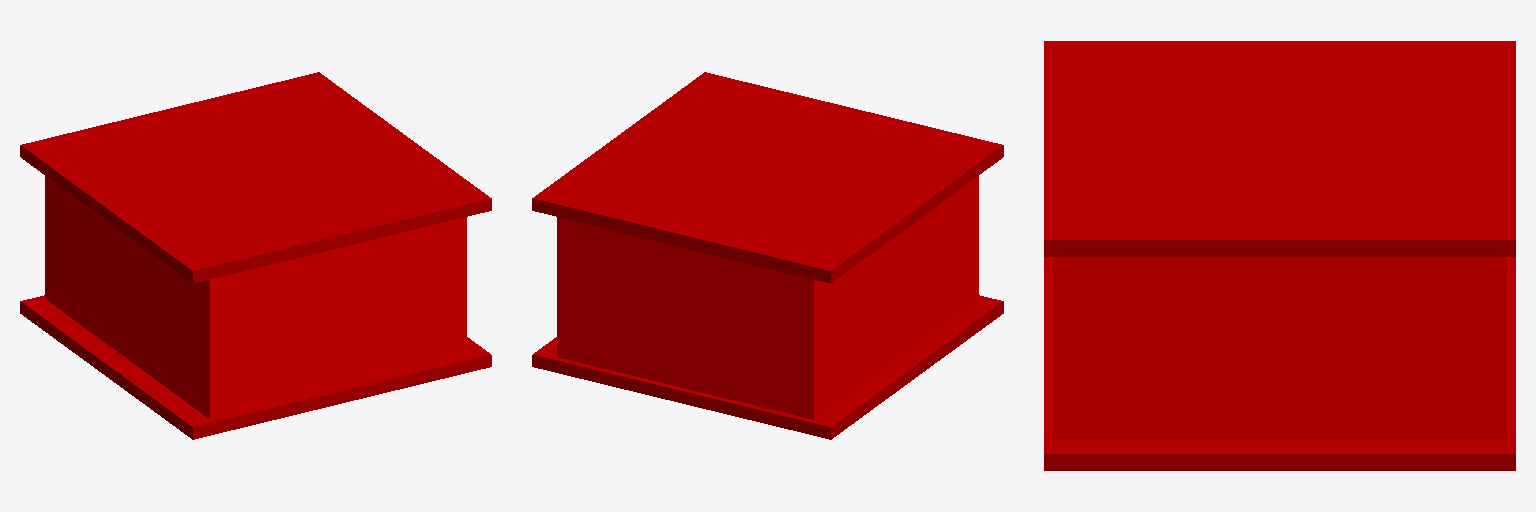
--- Facts derived from the render (not from the file) ---
The picture shows the robot from 3 angles, left to right: view 1: azimuth 30°, elevation 25°; view 2: azimuth 150°, elevation 25°; view 3: azimuth 270°, elevation 25°; orthographic projection.
Robot: m20id_35 — 22 links, 21 joints (12 revolute, 9 fixed); root link base_ground; default pose: every joint at zero.
Links seen in each view (by area): view 1: wall, ceil, floor; view 2: wall, ceil, floor; view 3: ceil, wall, floor.
Boxes of the visible links, bbox=[...] form: wall: bbox=[45, 176, 466, 419]; ceil: bbox=[20, 72, 491, 283]; floor: bbox=[20, 295, 491, 439]; wall: bbox=[557, 176, 978, 419]; ceil: bbox=[532, 72, 1003, 283]; floor: bbox=[532, 295, 1003, 439]; ceil: bbox=[1044, 41, 1515, 256]; wall: bbox=[1054, 257, 1505, 439]; floor: bbox=[1044, 257, 1515, 470].
Size in the robot's own frame: 5 by 5 by 2.7 metres.
Meshes: 13 distinct files referenced, 21 mesh visuals loaded (13 binary STL).

The robot description file, URDF, robot "m20id_35":
<?xml version="1.0" encoding="utf-8" ?>
<!-- This URDF was automatically created by SolidWorks to URDF Exporter! Originally created by Stephen Brawner ([email redacted]) 
     Commit Version: 1.6.0-4-g7f85cfe  Build Version: 1.6.7995.38578
     For more information, please see http://wiki.ros.org/sw_urdf_exporter -->
<robot name="m20id_35">
    <link name="base_ground">
        <visual>
            <origin xyz="0 0 0" rpy="0 0 0" />
            <geometry>
                <box size="0.001 0.001 0.001" />
            </geometry>
        </visual>
        <collision>
            <origin xyz="0 0 0" rpy="0 0 0" />
            <geometry>
                <box size="0.001 0.001 0.001" />
            </geometry>
        </collision>
        <inertial>
            <mass value="0.1" />
            <origin xyz="0 0 0" rpy="0 0 0" />
            <inertia ixx="0.03" iyy="0.03" izz="0.03" ixy="0.0" ixz="0.0" iyz="0.0" />
        </inertial>
    </link>
    <joint name="arm1_base" type="fixed">
        <origin xyz="-0.75 -1 0" rpy="0 0 -0.6435" />
        <parent link="base_ground" />
        <child link="base_link_1" />
    </joint>
    <joint name="arm2_base" type="fixed">
        <origin xyz="0.75 1 0" rpy="0 0 2.4981" />
        <parent link="base_ground" />
        <child link="base_link_2" />
    </joint>
    <link name="base_link_1">
        <inertial>
            <origin xyz="-0.0038198 -0.023633 0.098793" rpy="0 0 0" />
            <mass value="5.1351" />
            <inertia ixx="0.081423" ixy="-0.00084571" ixz="-0.00050805" iyy="0.06095" iyz="0.0044562" izz="0.11291" />
        </inertial>
        <visual>
            <origin xyz="0 0 0" rpy="0 0 0" />
            <geometry>
                <mesh filename="package://m20id_35/meshes/base_link.STL" />
            </geometry>
            <material name="">
                <color rgba="0.2 0.2 0.2 1" />
            </material>
        </visual>
        <collision>
            <origin xyz="0 0 0" rpy="0 0 0" />
            <geometry>
                <mesh filename="package://m20id_35/meshes/base_link.STL" />
            </geometry>
        </collision>
    </link>
    <link name="shoulder_link_1">
        <inertial>
            <origin xyz="-0.02343 0.011327 0.17427" rpy="0 0 0" />
            <mass value="18.964" />
            <inertia ixx="0.34346" ixy="-0.027541" ixz="0.040558" iyy="0.33663" iyz="-0.014122" izz="0.30546" />
        </inertial>
        <visual>
            <origin xyz="0 0 0" rpy="0 0 0" />
            <geometry>
                <mesh filename="package://m20id_35/meshes/shoulder_link.STL" />
            </geometry>
            <material name="">
                <color rgba="1 1 0.1 1" />
            </material>
        </visual>
        <collision>
            <origin xyz="0 0 0" rpy="0 0 0" />
            <geometry>
                <mesh filename="package://m20id_35/meshes/shoulder_link.STL" />
            </geometry>
        </collision>
    </link>
    <joint name="joint11" type="revolute">
        <origin xyz="0 0 0.157" rpy="0 0 0" />
        <parent link="base_link_1" />
        <child link="shoulder_link_1" />
        <axis xyz="0 0 1" />
        <limit lower="-1.047" upper="1.047" effort="0" velocity="3.1416" />
    </joint>
    <link name="arm_link_1">
        <inertial>
            <origin xyz="-0.35456 -0.047138 0.10163" rpy="0 0 0" />
            <mass value="20.745" />
            <inertia ixx="0.12979" ixy="-0.048401" ixz="-0.033424" iyy="1.9258" iyz="0.023229" izz="1.9688" />
        </inertial>
        <visual>
            <origin xyz="0 0 0" rpy="0 0 0" />
            <geometry>
                <mesh filename="package://m20id_35/meshes/arm_link.STL" />
            </geometry>
            <material name="">
                <color rgba="1 1 0.1 1" />
            </material>
        </visual>
        <collision>
            <origin xyz="0 0 0" rpy="0 0 0" />
            <geometry>
                <mesh filename="package://m20id_35/meshes/arm_link.STL" />
            </geometry>
        </collision>
    </link>
    <joint name="joint12" type="revolute">
        <origin xyz="0.08002 0.075 0.268" rpy="0 1.5708 0" />
        <parent link="shoulder_link_1" />
        <child link="arm_link_1" />
        <axis xyz="0 0 1" />
        <limit lower="-2.7925" upper="1.7453" effort="0" velocity="3.1416" />
    </joint>
    <link name="elbow_link_1">
        <inertial>
            <origin xyz="-0.11262 0.14159 -0.098843" rpy="0 0 0" />
            <mass value="13.845" />
            <inertia ixx="0.22875" ixy="0.096602" ixz="-0.0012023" iyy="0.2356" iyz="0.014056" izz="0.28145" />
        </inertial>
        <visual>
            <origin xyz="0 0 0" rpy="0 0 0" />
            <geometry>
                <mesh filename="package://m20id_35/meshes/elbow_link.STL" />
            </geometry>
            <material name="">
                <color rgba="1 1 0.1 1" />
            </material>
        </visual>
        <collision>
            <origin xyz="0 0 0" rpy="0 0 0" />
            <geometry>
                <mesh filename="package://m20id_35/meshes/elbow_link.STL" />
            </geometry>
        </collision>
    </link>
    <joint name="joint13" type="revolute">
        <origin xyz="-0.84 0 -0.01752" rpy="0 0 0" />
        <parent link="arm_link_1" />
        <child link="elbow_link_1" />
        <axis xyz="0 0 1" />
        <limit lower="-1.4788" upper="4.1888" effort="0" velocity="3.4907" />
    </joint>
    <link name="forearm_link_1">
        <inertial>
            <origin xyz="0.0002881 -0.063255 0.27256" rpy="0 0 0" />
            <mass value="8.6186" />
            <inertia ixx="0.1009" ixy="2.3705E-06" ixz="2.2342E-05" iyy="0.099253" iyz="0.0099493" izz="0.028818" />
        </inertial>
        <visual>
            <origin xyz="0 0 0" rpy="0 0 0" />
            <geometry>
                <mesh filename="package://m20id_35/meshes/forearm_link.STL" />
            </geometry>
            <material name="">
                <color rgba="1 1 0.1 1" />
            </material>
        </visual>
        <collision>
            <origin xyz="0 0 0" rpy="0 0 0" />
            <geometry>
                <mesh filename="package://m20id_35/meshes/forearm_link.STL" />
            </geometry>
        </collision>
    </link>
    <joint name="joint14" type="revolute">
        <origin xyz="-0.215 0.29574 -0.0625" rpy="-1.5708 0 0" />
        <parent link="elbow_link_1" />
        <child link="forearm_link_1" />
        <axis xyz="0 0 1" />
        <limit lower="-3.4907" upper="3.4907" effort="0" velocity="6.1087" />
    </joint>
    <link name="wrist_link_1">
        <inertial>
            <origin xyz="-1.7388E-06 -0.030158 0.032589" rpy="0 0 0" />
            <mass value="0.50503" />
            <inertia ixx="0.0012932" ixy="1.9229E-08" ixz="-9.9312E-09" iyy="0.0013329" iyz="0.00033609" izz="0.0015121" />
        </inertial>
        <visual>
            <origin xyz="0 0 0" rpy="0 0 0" />
            <geometry>
                <mesh filename="package://m20id_35/meshes/wrist_link.STL" />
            </geometry>
            <material name="">
                <color rgba="0.2 0.2 0.2 1" />
            </material>
        </visual>
        <collision>
            <origin xyz="0 0 0" rpy="0 0 0" />
            <geometry>
                <mesh filename="package://m20id_35/meshes/wrist_link.STL" />
            </geometry>
        </collision>
    </link>
    <joint name="joint15" type="revolute">
        <origin xyz="0 -0.0525 0.59426" rpy="-1.5708 0 0" />
        <parent link="forearm_link_1" />
        <child link="wrist_link_1" />
        <axis xyz="0 0 1" />
        <limit lower="-3.1416" upper="3.1416" effort="0" velocity="6.1087" />
    </joint>
    <link name="hand_link_1">
        <inertial>
            <origin xyz="-8.2599E-11 7.2805E-18 0.02528" rpy="0 0 0" />
            <mass value="0.14987" />
            <inertia ixx="0.00013691" ixy="2.3225E-16" ixz="-2.3192E-13" iyy="0.00013695" iyz="-3.9883E-21" izz="0.00020789" />
        </inertial>
        <visual>
            <origin xyz="0 0 0" rpy="0 0 0" />
            <geometry>
                <mesh filename="package://m20id_35/meshes/hand_link.STL" />
            </geometry>
            <material name="">
                <color rgba="0.2 0.2 0.2 1" />
            </material>
        </visual>
        <collision>
            <origin xyz="0 0 0" rpy="0 0 0" />
            <geometry>
                <mesh filename="package://m20id_35/meshes/hand_link.STL" />
            </geometry>
        </collision>
    </link>
    <joint name="joint16" type="revolute">
        <origin xyz="0 -0.0308 0.0525" rpy="1.5708 0 0" />
        <parent link="wrist_link_1" />
        <child link="hand_link_1" />
        <axis xyz="0 0 1" />
        <limit lower="-3.14" upper="3.14" effort="0" velocity="6.9813" />
    </joint>
    <joint name="joint17" type="fixed">
        <origin xyz="0 0 0.124" rpy="0 0 0" />
        <parent link="hand_link_1" />
        <child link="detector" />
    </joint>
    <link name="detector">
        <inertial>
            <origin xyz="-1.7388E-06 -0.030158 0.032589" rpy="0 0 0" />
            <mass value="0.50503" />
            <inertia ixx="0.0012932" ixy="1.9229E-08" ixz="-9.9312E-09" iyy="0.0013329" iyz="0.00033609" izz="0.0015121" />
        </inertial>
        <visual>
            <origin xyz="0 0 0" rpy="0 0 0" />
            <geometry>
                <mesh filename="package://m20id_35/meshes/detector.STL" />
            </geometry>
            <material name="">
                <color rgba="0.3 0.3 0.3 1" />
            </material>
        </visual>
        <collision>
            <origin xyz="0 0 0" rpy="0 0 0" />
            <geometry>
                <mesh filename="package://m20id_35/meshes/detector.STL" />
            </geometry>
        </collision>
    </link>
    <link name="base_link_2">
        <inertial>
            <origin xyz="-0.0038198 -0.023633 0.098793" rpy="0 0 0" />
            <mass value="5.1351" />
            <inertia ixx="0.081423" ixy="-0.00084571" ixz="-0.00050805" iyy="0.06095" iyz="0.0044562" izz="0.11291" />
        </inertial>
        <visual>
            <origin xyz="0 0 0" rpy="0 0 0" />
            <geometry>
                <mesh filename="package://m20id_35/meshes/base_link.STL" />
            </geometry>
            <material name="">
                <color rgba="0.2 0.2 0.2 1" />
            </material>
        </visual>
        <collision>
            <origin xyz="0 0 0" rpy="0 0 0" />
            <geometry>
                <mesh filename="package://m20id_35/meshes/base_link.STL" />
            </geometry>
        </collision>
    </link>
    <link name="shoulder_link_2">
        <inertial>
            <origin xyz="-0.02343 0.011327 0.17427" rpy="0 0 0" />
            <mass value="18.964" />
            <inertia ixx="0.34346" ixy="-0.027541" ixz="0.040558" iyy="0.33663" iyz="-0.014122" izz="0.30546" />
        </inertial>
        <visual>
            <origin xyz="0 0 0" rpy="0 0 0" />
            <geometry>
                <mesh filename="package://m20id_35/meshes/shoulder_link.STL" />
            </geometry>
            <material name="">
                <color rgba="1 1 0.1 1" />
            </material>
        </visual>
        <collision>
            <origin xyz="0 0 0" rpy="0 0 0" />
            <geometry>
                <mesh filename="package://m20id_35/meshes/shoulder_link.STL" />
            </geometry>
        </collision>
    </link>
    <joint name="joint21" type="revolute">
        <origin xyz="0 0 0.157" rpy="0 0 0" />
        <parent link="base_link_2" />
        <child link="shoulder_link_2" />
        <axis xyz="0 0 1" />
        <limit lower="-3.2289" upper="3.2289" effort="0" velocity="3.1416" />
    </joint>
    <link name="arm_link_2">
        <inertial>
            <origin xyz="-0.35456 -0.047138 0.10163" rpy="0 0 0" />
            <mass value="20.745" />
            <inertia ixx="0.12979" ixy="-0.048401" ixz="-0.033424" iyy="1.9258" iyz="0.023229" izz="1.9688" />
        </inertial>
        <visual>
            <origin xyz="0 0 0" rpy="0 0 0" />
            <geometry>
                <mesh filename="package://m20id_35/meshes/arm_link.STL" />
            </geometry>
            <material name="">
                <color rgba="1 1 0.1 1" />
            </material>
        </visual>
        <collision>
            <origin xyz="0 0 0" rpy="0 0 0" />
            <geometry>
                <mesh filename="package://m20id_35/meshes/arm_link.STL" />
            </geometry>
        </collision>
    </link>
    <joint name="joint22" type="revolute">
        <origin xyz="0.08002 0.075 0.268" rpy="0 1.5708 0" />
        <parent link="shoulder_link_2" />
        <child link="arm_link_2" />
        <axis xyz="0 0 1" />
        <limit lower="-2.7925" upper="1.7453" effort="0" velocity="3.1416" />
    </joint>
    <link name="elbow_link_2">
        <inertial>
            <origin xyz="-0.11262 0.14159 -0.098843" rpy="0 0 0" />
            <mass value="13.845" />
            <inertia ixx="0.22875" ixy="0.096602" ixz="-0.0012023" iyy="0.2356" iyz="0.014056" izz="0.28145" />
        </inertial>
        <visual>
            <origin xyz="0 0 0" rpy="0 0 0" />
            <geometry>
                <mesh filename="package://m20id_35/meshes/elbow_link.STL" />
            </geometry>
            <material name="">
                <color rgba="1 1 0.1 1" />
            </material>
        </visual>
        <collision>
            <origin xyz="0 0 0" rpy="0 0 0" />
            <geometry>
                <mesh filename="package://m20id_35/meshes/elbow_link.STL" />
            </geometry>
        </collision>
    </link>
    <joint name="joint23" type="revolute">
        <origin xyz="-0.84 0 -0.01752" rpy="0 0 0" />
        <parent link="arm_link_2" />
        <child link="elbow_link_2" />
        <axis xyz="0 0 1" />
        <limit lower="-3.3161" upper="4.6775" effort="0" velocity="3.4907" />
    </joint>
    <link name="forearm_link_2">
        <inertial>
            <origin xyz="0.0002881 -0.063255 0.27256" rpy="0 0 0" />
            <mass value="8.6186" />
            <inertia ixx="0.1009" ixy="2.3705E-06" ixz="2.2342E-05" iyy="0.099253" iyz="0.0099493" izz="0.028818" />
        </inertial>
        <visual>
            <origin xyz="0 0 0" rpy="0 0 0" />
            <geometry>
                <mesh filename="package://m20id_35/meshes/forearm_link.STL" />
            </geometry>
            <material name="">
                <color rgba="1 1 0.1 1" />
            </material>
        </visual>
        <collision>
            <origin xyz="0 0 0" rpy="0 0 0" />
            <geometry>
                <mesh filename="package://m20id_35/meshes/forearm_link.STL" />
            </geometry>
        </collision>
    </link>
    <joint name="joint24" type="revolute">
        <origin xyz="-0.215 0.29574 -0.0625" rpy="-1.5708 0 0" />
        <parent link="elbow_link_2" />
        <child link="forearm_link_2" />
        <axis xyz="0 0 1" />
        <limit lower="-3.4907" upper="3.4907" effort="0" velocity="6.1087" />
    </joint>
    <link name="wrist_link_2">
        <inertial>
            <origin xyz="-1.7388E-06 -0.030158 0.032589" rpy="0 0 0" />
            <mass value="0.50503" />
            <inertia ixx="0.0012932" ixy="1.9229E-08" ixz="-9.9312E-09" iyy="0.0013329" iyz="0.00033609" izz="0.0015121" />
        </inertial>
        <visual>
            <origin xyz="0 0 0" rpy="0 0 0" />
            <geometry>
                <mesh filename="package://m20id_35/meshes/wrist_link.STL" />
            </geometry>
            <material name="">
                <color rgba="0.2 0.2 0.2 1" />
            </material>
        </visual>
        <collision>
            <origin xyz="0 0 0" rpy="0 0 0" />
            <geometry>
                <mesh filename="package://m20id_35/meshes/wrist_link.STL" />
            </geometry>
        </collision>
    </link>
    <joint name="joint25" type="revolute">
        <origin xyz="0 -0.0525 0.59426" rpy="-1.5708 0 0" />
        <parent link="forearm_link_2" />
        <child link="wrist_link_2" />
        <axis xyz="0 0 1" />
        <limit lower="-3.1416" upper="3.1416" effort="0" velocity="6.1087" />
    </joint>
    <link name="hand_link_2">
        <inertial>
            <origin xyz="-8.2599E-11 7.2805E-18 0.02528" rpy="0 0 0" />
            <mass value="0.14987" />
            <inertia ixx="0.00013691" ixy="2.3225E-16" ixz="-2.3192E-13" iyy="0.00013695" iyz="-3.9883E-21" izz="0.00020789" />
        </inertial>
        <visual>
            <origin xyz="0 0 0" rpy="0 0 0" />
            <geometry>
                <mesh filename="package://m20id_35/meshes/hand_link.STL" />
            </geometry>
            <material name="">
                <color rgba="0.2 0.2 0.2 1" />
            </material>
        </visual>
        <collision>
            <origin xyz="0 0 0" rpy="0 0 0" />
            <geometry>
                <mesh filename="package://m20id_35/meshes/hand_link.STL" />
            </geometry>
        </collision>
    </link>
    <joint name="joint26" type="revolute">
        <origin xyz="0 -0.0308 0.0525" rpy="1.5708 0 0" />
        <parent link="wrist_link_2" />
        <child link="hand_link_2" />
        <axis xyz="0 0 1" />
        <limit lower="-3.14" upper="3.14" effort="0" velocity="6.9813" />
    </joint>
    <joint name="joint27" type="fixed">
        <origin xyz="0 0 0.124" rpy="0 0 0" />
        <parent link="hand_link_2" />
        <child link="x_ray_generator" />
    </joint>
    <link name="x_ray_generator">
        <inertial>
            <origin xyz="-1.7388E-06 -0.030158 0.032589" rpy="0 0 0" />
            <mass value="0.50503" />
            <inertia ixx="0.0012932" ixy="1.9229E-08" ixz="-9.9312E-09" iyy="0.0013329" iyz="0.00033609" izz="0.0015121" />
        </inertial>
        <visual>
            <origin xyz="0 0 0" rpy="-1.5708 0 -1.5708" />
            <geometry>
                <mesh filename="package://m20id_35/meshes/MXR225MF.STL" scale="0.001 0.001 0.001" />
            </geometry>
            <material name="">
                <color rgba="0.7 0.7 0.7 1" />
            </material>
        </visual>
        <collision>
            <origin xyz="0 0 0" rpy="-1.5708 0 -1.5708" />
            <geometry>
                <mesh filename="package://m20id_35/meshes/MXR225MF.STL" scale="0.001 0.001 0.001" />
            </geometry>
        </collision>
    </link>
    <joint name="joint28" type="fixed">
        <origin xyz="0 0 0" rpy="0 0 0" />
        <parent link="x_ray_generator" />
        <child link="x_ray_beam" />
    </joint>
    <link name="x_ray_beam">
        <inertial>
            <origin xyz="-1.7388E-06 -0.030158 0.032589" rpy="0 0 0" />
            <mass value="0.50503" />
            <inertia ixx="0.0012932" ixy="1.9229E-08" ixz="-9.9312E-09" iyy="0.0013329" iyz="0.00033609" izz="0.0015121" />
        </inertial>
        <visual>
            <origin xyz="0 -0.2 0.6" rpy="-3.1416 0 0" />
            <geometry>
                <mesh filename="package://m20id_35/meshes/cone.STL" scale="1 1 1" />
            </geometry>
            <material name="">
                <color rgba="0.9 0.9 0.9 0.2" />
            </material>
        </visual>
        <collision>
            <origin xyz="0 -0.2 0.6" rpy="-3.1416 0 0" />
            <geometry>
                <mesh filename="package://m20id_35/meshes/cone.STL" scale="1 1 1" />
            </geometry>
        </collision>
    </link>
    <joint name="joint00" type="fixed">
        <origin xyz="0 0 0" rpy="0 0 0" />
        <parent link="base_ground" />
        <child link="wall" />
    </joint>
    <link name="wall">
        <inertial>
            <origin xyz="0 0 0 " rpy="0 0 0" />
            <mass value="1e7" />
            <inertia ixx="1e6" ixy="1e6" ixz="1e6" iyy="1e6" iyz="1e6" izz="1e6" />
        </inertial>
        <visual>
            <origin xyz="0 0 0" rpy="0 0 0" />
            <geometry>
                <mesh filename="package://m20id_35/meshes/wall.STL" scale="1 1 1" />
            </geometry>
            <material name="">
                <color rgba="1.0 0.0 0.0 1.0" />
            </material>
        </visual>
        <collision>
            <origin xyz="0 0 0" rpy="0 0 0" />
            <geometry>
                <mesh filename="package://m20id_35/meshes/wall.STL" scale="1 1 1" />
            </geometry>
        </collision>
    </link>
    <joint name="joint01" type="fixed">
        <origin xyz="0 0 0" rpy="0 0 0" />
        <parent link="base_ground" />
        <child link="floor" />
    </joint>
    <link name="floor">
        <inertial>
            <origin xyz="0 0 0 " rpy="0 0 0" />
            <mass value="1e7" />
            <inertia ixx="1e6" ixy="1e6" ixz="1e6" iyy="1e6" iyz="1e6" izz="1e6" />
        </inertial>
        <visual>
            <origin xyz="0 0 0" rpy="0 0 0" />
            <geometry>
                <mesh filename="package://m20id_35/meshes/floor.STL" scale="1 1 1" />
            </geometry>
            <material name="">
                <color rgba="0.8 0.0 0.0 1.0" />
            </material>
        </visual>
        <collision>
            <origin xyz="0 0 0.0" rpy="0 0 0" />
            <geometry>
                <mesh filename="package://m20id_35/meshes/floor.STL" scale="1 1 1" />
            </geometry>
        </collision>
    </link>
    <joint name="joint02" type="fixed">
        <origin xyz="0 0 0" rpy="0 0 0" />
        <parent link="base_ground" />
        <child link="ceil" />
    </joint>
    <link name="ceil">
        <inertial>
            <origin xyz="0 0 0 " rpy="0 0 0" />
            <mass value="1e7" />
            <inertia ixx="1e6" ixy="1e6" ixz="1e6" iyy="1e6" iyz="1e6" izz="1e6" />
        </inertial>
        <visual>
            <origin xyz="0 0 2.5" rpy="0 0 0" />
            <geometry>
                <mesh filename="package://m20id_35/meshes/floor.STL" scale="1 1 1" />
            </geometry>
            <material name="">
                <color rgba="0.8 0.0 0.0 0.1" />
            </material>
        </visual>
        <collision>
            <origin xyz="0 0 2.5" rpy="0 0 0" />
            <geometry>
                <mesh filename="package://m20id_35/meshes/floor.STL" scale="1 1 1" />
            </geometry>
        </collision>
    </link>
    <joint name="joint03" type="fixed">
        <origin xyz="0 0 0" rpy="0 0 0" />
        <parent link="base_ground" />
        <child link="object" />
    </joint>
    <link name="object">
        <inertial>
            <origin xyz="0 0 0 " rpy="0 0 0" />
            <mass value="1e7" />
            <inertia ixx="1e6" ixy="1e6" ixz="1e6" iyy="1e6" iyz="1e6" izz="1e6" />
        </inertial>
        <visual>
            <origin xyz="-6.5 -4 0.5" rpy="0 0 0" />
            <geometry>
                <mesh filename="package://m20id_35/meshes/wings_defected.STL" scale="1 1 1" />
            </geometry>
            <material name="">
                <color rgba="0.0 1.0 0.0 1.0" />
            </material>
        </visual>
        <collision>
            <origin xyz="-6.5 -4 0.5" rpy="0 0 0" />
            <geometry>
                <mesh filename="package://m20id_35/meshes/wings_defected.STL" scale="1 1 1" />
            </geometry>
        </collision>
    </link>
    <transmission name="trans_joint11">
        <type>transmission_interface/SimpleTransmission</type>
        <joint name="joint11">
            <hardwareInterface>hardware_interface/EffortJointInterface</hardwareInterface>
        </joint>
        <actuator name="joint11_motor">
            <hardwareInterface>hardware_interface/EffortJointInterface</hardwareInterface>
            <mechanicalReduction>1</mechanicalReduction>
        </actuator>
    </transmission>
    <transmission name="trans_joint12">
        <type>transmission_interface/SimpleTransmission</type>
        <joint name="joint12">
            <hardwareInterface>hardware_interface/EffortJointInterface</hardwareInterface>
        </joint>
        <actuator name="joint12_motor">
            <hardwareInterface>hardware_interface/EffortJointInterface</hardwareInterface>
            <mechanicalReduction>1</mechanicalReduction>
        </actuator>
    </transmission>
    <transmission name="trans_joint13">
        <type>transmission_interface/SimpleTransmission</type>
        <joint name="joint13">
            <hardwareInterface>hardware_interface/EffortJointInterface</hardwareInterface>
        </joint>
        <actuator name="joint13_motor">
            <hardwareInterface>hardware_interface/EffortJointInterface</hardwareInterface>
            <mechanicalReduction>1</mechanicalReduction>
        </actuator>
    </transmission>
    <transmission name="trans_joint14">
        <type>transmission_interface/SimpleTransmission</type>
        <joint name="joint14">
            <hardwareInterface>hardware_interface/EffortJointInterface</hardwareInterface>
        </joint>
        <actuator name="joint14_motor">
            <hardwareInterface>hardware_interface/EffortJointInterface</hardwareInterface>
            <mechanicalReduction>1</mechanicalReduction>
        </actuator>
    </transmission>
    <transmission name="trans_joint15">
        <type>transmission_interface/SimpleTransmission</type>
        <joint name="joint15">
            <hardwareInterface>hardware_interface/EffortJointInterface</hardwareInterface>
        </joint>
        <actuator name="joint15_motor">
            <hardwareInterface>hardware_interface/EffortJointInterface</hardwareInterface>
            <mechanicalReduction>1</mechanicalReduction>
        </actuator>
    </transmission>
    <transmission name="trans_joint16">
        <type>transmission_interface/SimpleTransmission</type>
        <joint name="joint16">
            <hardwareInterface>hardware_interface/EffortJointInterface</hardwareInterface>
        </joint>
        <actuator name="joint16_motor">
            <hardwareInterface>hardware_interface/EffortJointInterface</hardwareInterface>
            <mechanicalReduction>1</mechanicalReduction>
        </actuator>
    </transmission>
    <transmission name="trans_joint21">
        <type>transmission_interface/SimpleTransmission</type>
        <joint name="joint21">
            <hardwareInterface>hardware_interface/EffortJointInterface</hardwareInterface>
        </joint>
        <actuator name="joint21_motor">
            <hardwareInterface>hardware_interface/EffortJointInterface</hardwareInterface>
            <mechanicalReduction>1</mechanicalReduction>
        </actuator>
    </transmission>
    <transmission name="trans_joint22">
        <type>transmission_interface/SimpleTransmission</type>
        <joint name="joint22">
            <hardwareInterface>hardware_interface/EffortJointInterface</hardwareInterface>
        </joint>
        <actuator name="joint22_motor">
            <hardwareInterface>hardware_interface/EffortJointInterface</hardwareInterface>
            <mechanicalReduction>1</mechanicalReduction>
        </actuator>
    </transmission>
    <transmission name="trans_joint23">
        <type>transmission_interface/SimpleTransmission</type>
        <joint name="joint23">
            <hardwareInterface>hardware_interface/EffortJointInterface</hardwareInterface>
        </joint>
        <actuator name="joint23_motor">
            <hardwareInterface>hardware_interface/EffortJointInterface</hardwareInterface>
            <mechanicalReduction>1</mechanicalReduction>
        </actuator>
    </transmission>
    <transmission name="trans_joint24">
        <type>transmission_interface/SimpleTransmission</type>
        <joint name="joint24">
            <hardwareInterface>hardware_interface/EffortJointInterface</hardwareInterface>
        </joint>
        <actuator name="joint24_motor">
            <hardwareInterface>hardware_interface/EffortJointInterface</hardwareInterface>
            <mechanicalReduction>1</mechanicalReduction>
        </actuator>
    </transmission>
    <transmission name="trans_joint25">
        <type>transmission_interface/SimpleTransmission</type>
        <joint name="joint25">
            <hardwareInterface>hardware_interface/EffortJointInterface</hardwareInterface>
        </joint>
        <actuator name="joint25_motor">
            <hardwareInterface>hardware_interface/EffortJointInterface</hardwareInterface>
            <mechanicalReduction>1</mechanicalReduction>
        </actuator>
    </transmission>
    <transmission name="trans_joint26">
        <type>transmission_interface/SimpleTransmission</type>
        <joint name="joint26">
            <hardwareInterface>hardware_interface/EffortJointInterface</hardwareInterface>
        </joint>
        <actuator name="joint26_motor">
            <hardwareInterface>hardware_interface/EffortJointInterface</hardwareInterface>
            <mechanicalReduction>1</mechanicalReduction>
        </actuator>
    </transmission>
    <gazebo>
        <plugin name="gazebo_ros_control" filename="libgazebo_ros_control.so">
            <robotNamespace>/</robotNamespace>
        </plugin>
    </gazebo>
</robot>
